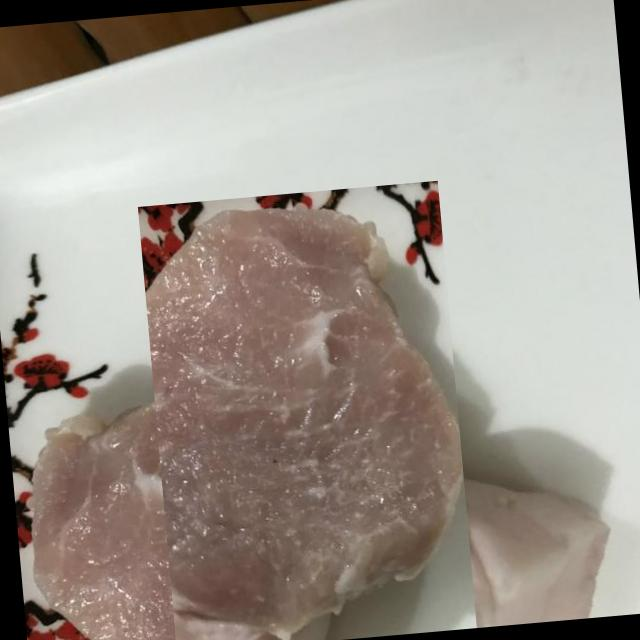chicken: (71, 247, 551, 640)
